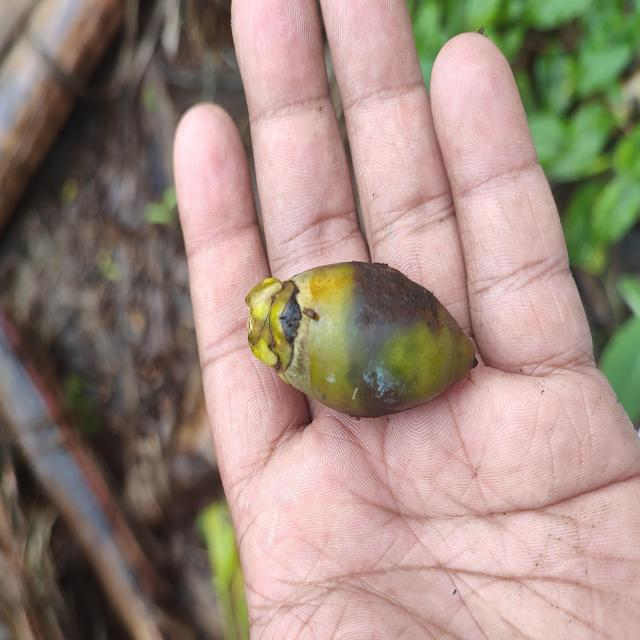damaged: (246, 262, 476, 417)
